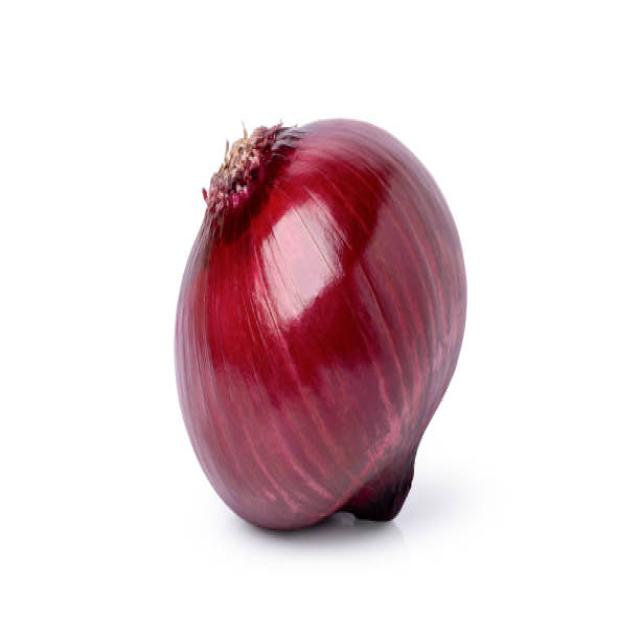onion: (168, 94, 474, 529)
